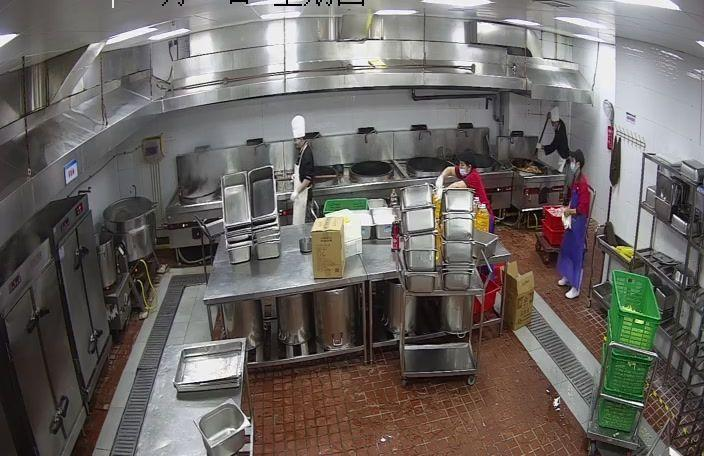mask: (458, 161, 472, 176)
